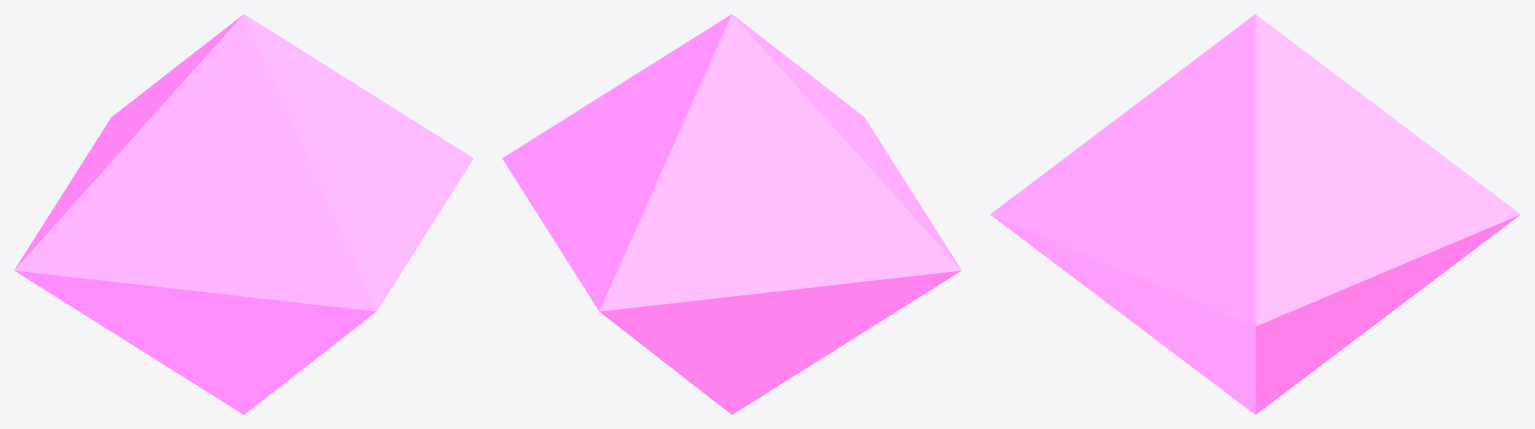
The model's file is iris.glb.
3 views of the same model, side by side, from view 1: azimuth 30°, elevation 25°; view 2: azimuth 150°, elevation 25°; view 3: azimuth 270°, elevation 25° (orthographic).
Visible parts, largest first — view 1: IrisPrismaticLens; view 2: IrisPrismaticLens; view 3: IrisPrismaticLens.
Boxes of the visible parts, x1,y1,x2,y2 form: IrisPrismaticLens: [14, 14, 473, 414]; IrisPrismaticLens: [502, 14, 961, 414]; IrisPrismaticLens: [990, 14, 1520, 414].
Bounding box in the file's own units: 2.4 × 2 × 2.4.
